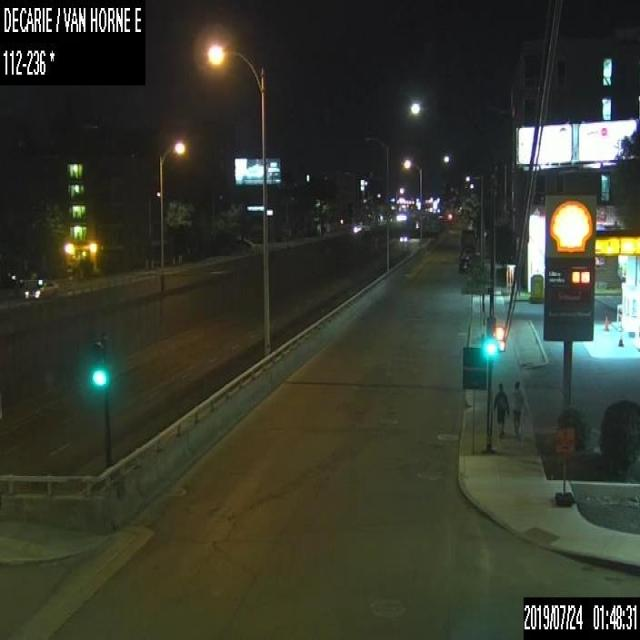construction: (552, 424, 574, 505)
pedestrian: (491, 381, 509, 436), (510, 380, 525, 436)
vehicle: (24, 276, 58, 300), (458, 248, 477, 274)
